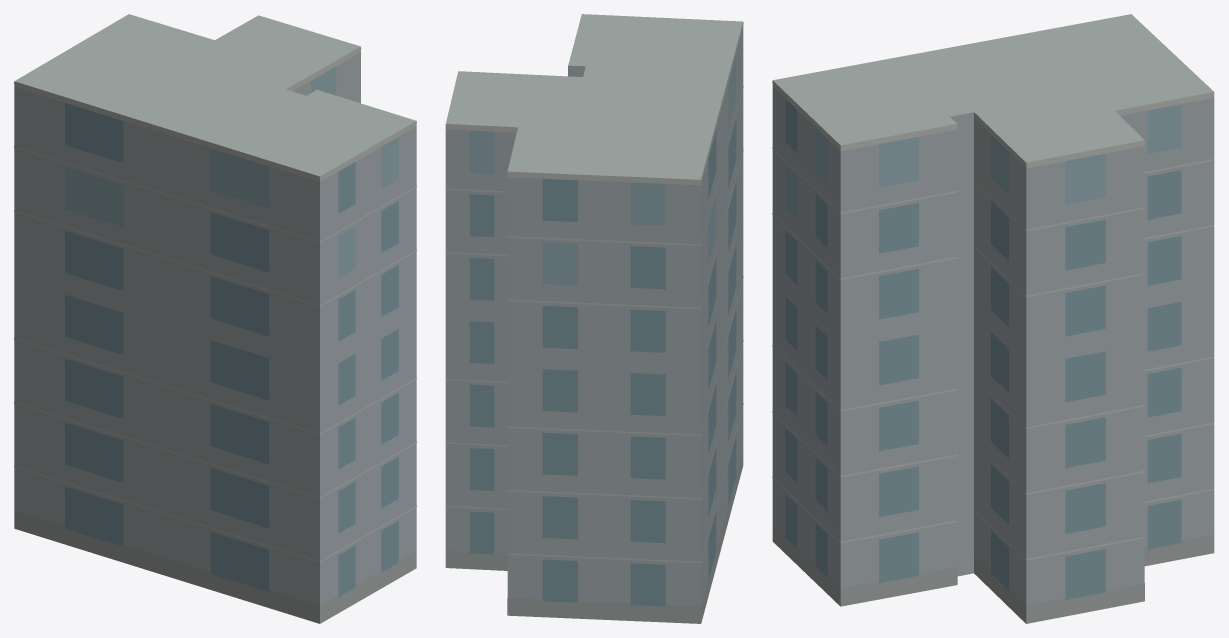
The model's file is survey-upis-32584040.glb.
3 renders of one model, left to right at view 1: azimuth 30°, elevation 25°; view 2: azimuth 150°, elevation 25°; view 3: azimuth 270°, elevation 25°, orthographic. The views are drawn at different scales.
Parts seen in each view (by area): view 1: survey-upis-32584040.tmp; view 2: survey-upis-32584040.tmp; view 3: survey-upis-32584040.tmp.
Part boxes in pixels (left/top/right/bottom): survey-upis-32584040.tmp: left=14, top=14, right=416, bottom=623; survey-upis-32584040.tmp: left=445, top=14, right=743, bottom=623; survey-upis-32584040.tmp: left=772, top=14, right=1214, bottom=623.
Bounding box in the file's own units: 13.34 × 19.25 × 16.73.
